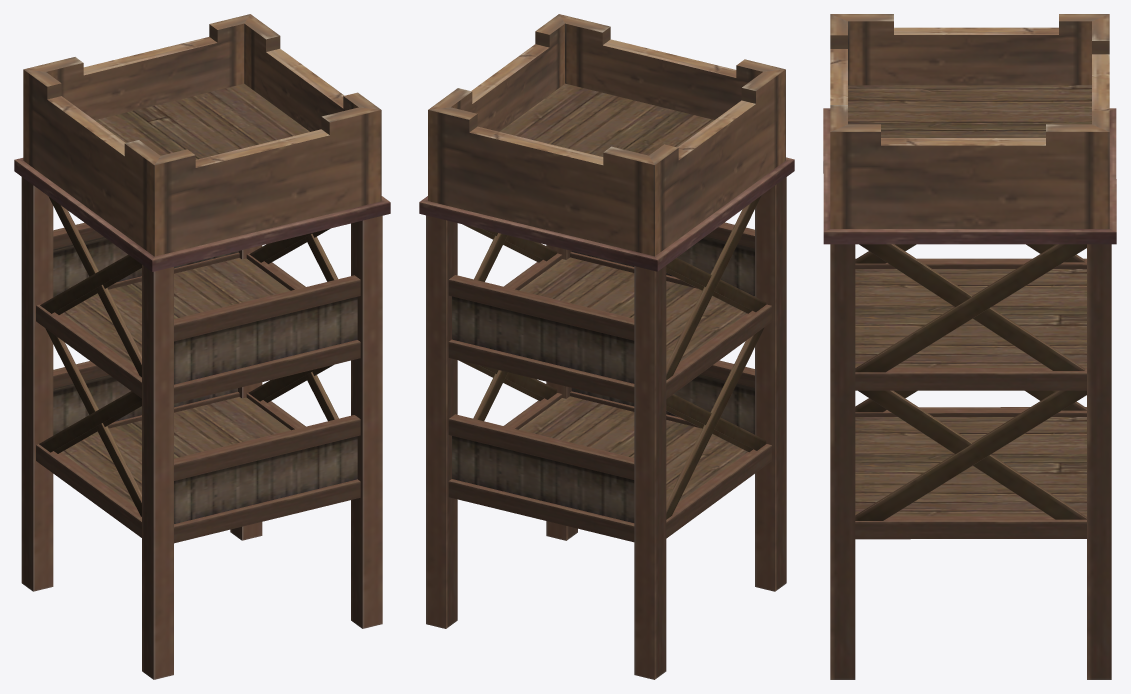
The model's file is talou03_R.fbx.
3 renders of one model, left to right at view 1: azimuth 30°, elevation 25°; view 2: azimuth 150°, elevation 25°; view 3: azimuth 270°, elevation 25°, orthographic. The views are drawn at different scales.
Visible parts, largest first — view 1: talou03_R; view 2: talou03_R; view 3: talou03_R.
Boxes of the visible parts, bbox=[...] form: talou03_R: bbox=[14, 14, 390, 679]; talou03_R: bbox=[419, 14, 794, 679]; talou03_R: bbox=[823, 14, 1116, 679].
Bounding box in the file's own units: 2 × 4.11 × 2.
